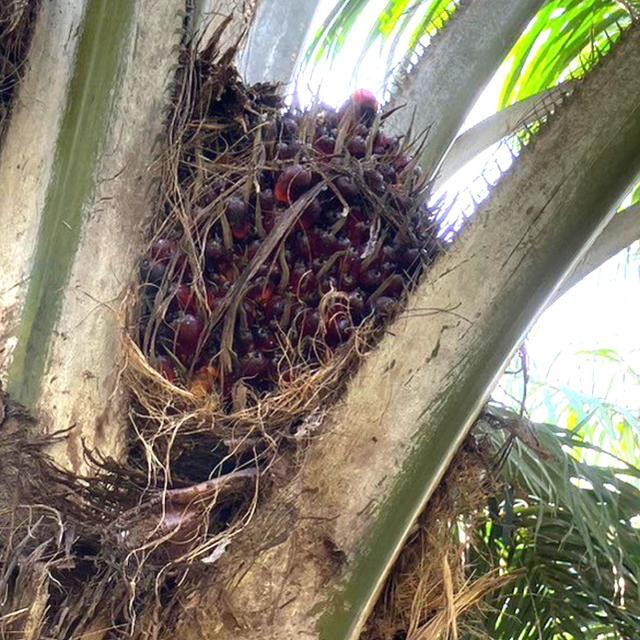ripe: (100, 61, 463, 510)
